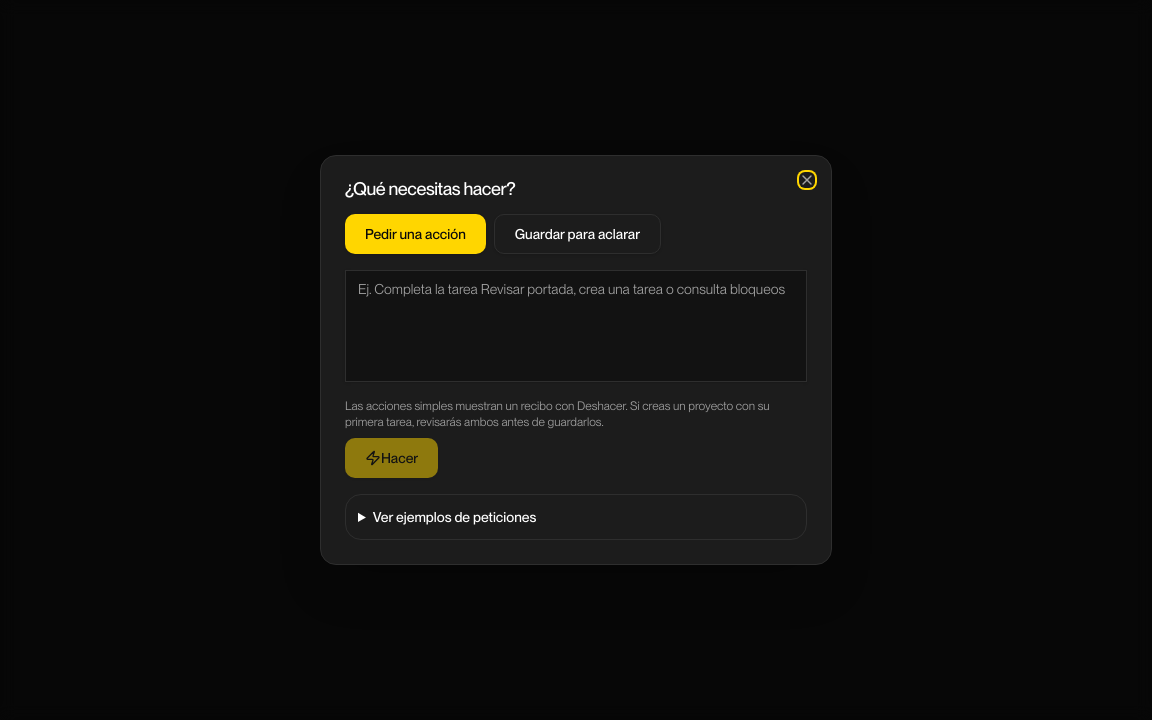
Scenario: command entry › keeps the request key across a network retry
Type "Haz algo" into the text box named "Petición" at [576, 326], box x1=345 y1=270 x2=807 y2=382
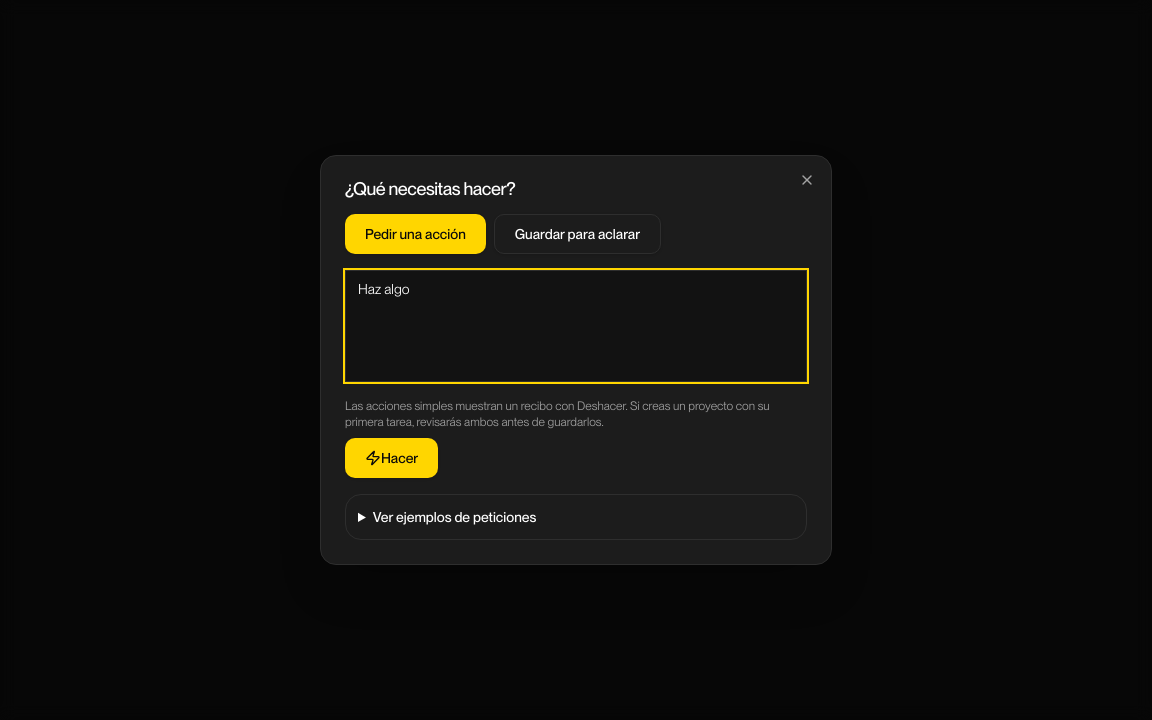
Click the button "Hacer" at [392, 458], box x1=345 y1=438 x2=438 y2=478
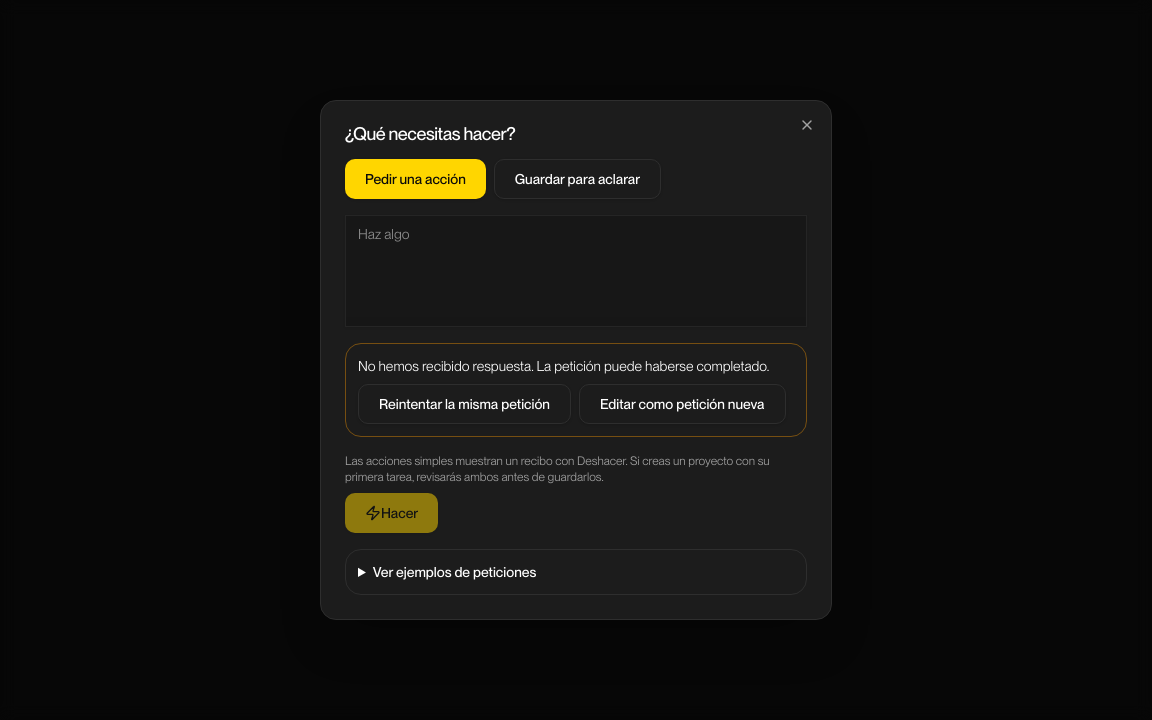
Result: the text box named "Petición" is disabled at x1=345 y1=215 x2=807 y2=327
Click the button "Reintentar la misma petición" at [464, 404], box x1=358 y1=384 x2=571 y2=424
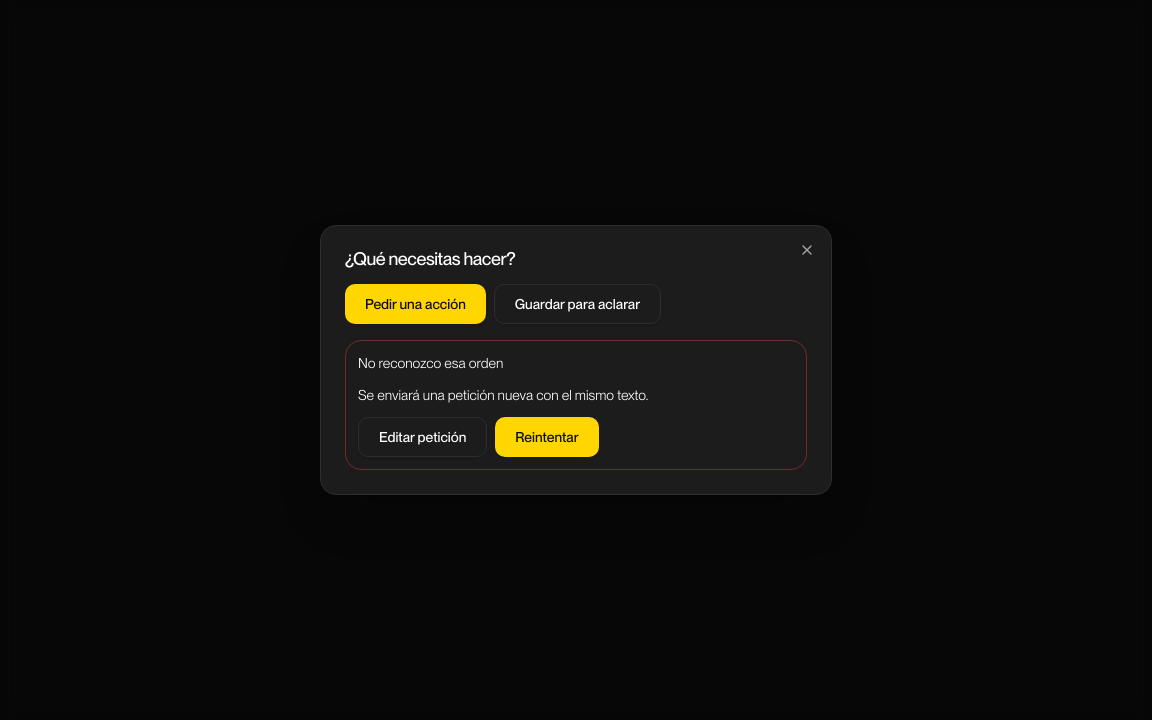
Result: the message shows "No reconozco esa orden" at x1=358 y1=355 x2=503 y2=371
